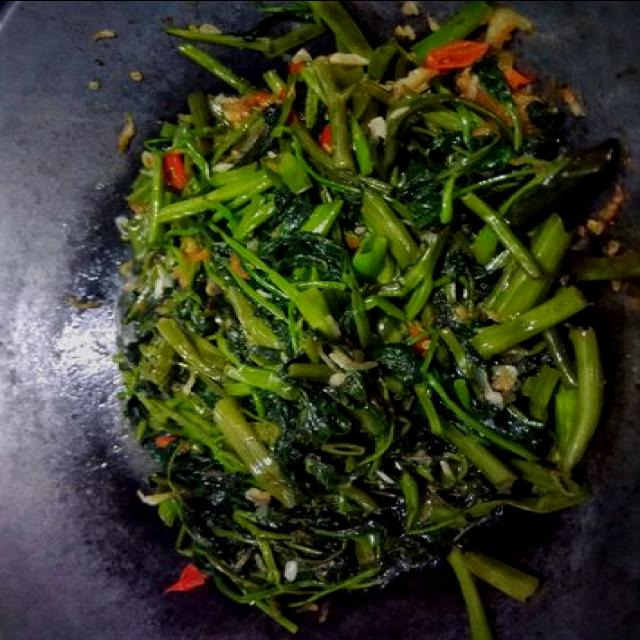tumis kangkung: (115, 0, 617, 631)
